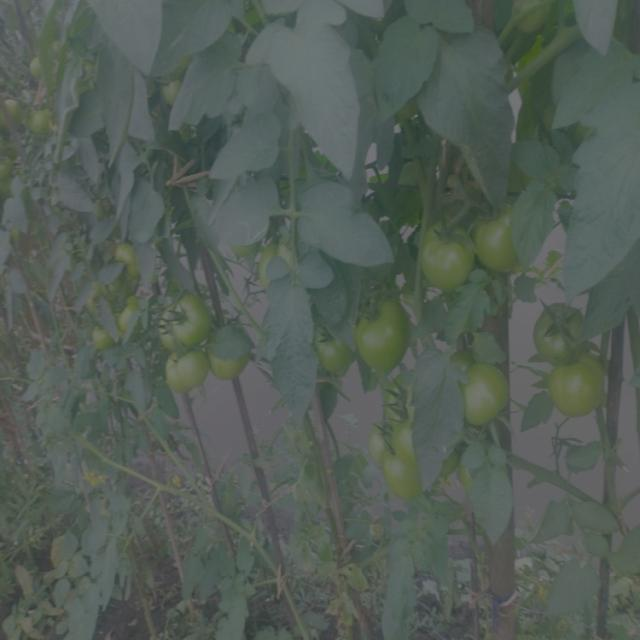tomato: (364, 376, 421, 496), (454, 357, 515, 422), (545, 362, 614, 418), (528, 301, 594, 358), (418, 222, 475, 287), (353, 305, 408, 364), (156, 297, 204, 348), (478, 217, 515, 271), (210, 334, 251, 377), (165, 351, 207, 392), (510, 1, 555, 38), (263, 243, 294, 281), (27, 105, 61, 134), (113, 244, 143, 275), (116, 300, 151, 326), (1, 100, 27, 133), (90, 326, 115, 359), (1, 159, 18, 201), (157, 79, 183, 105), (28, 61, 50, 79), (460, 464, 472, 490), (240, 249, 262, 257)
